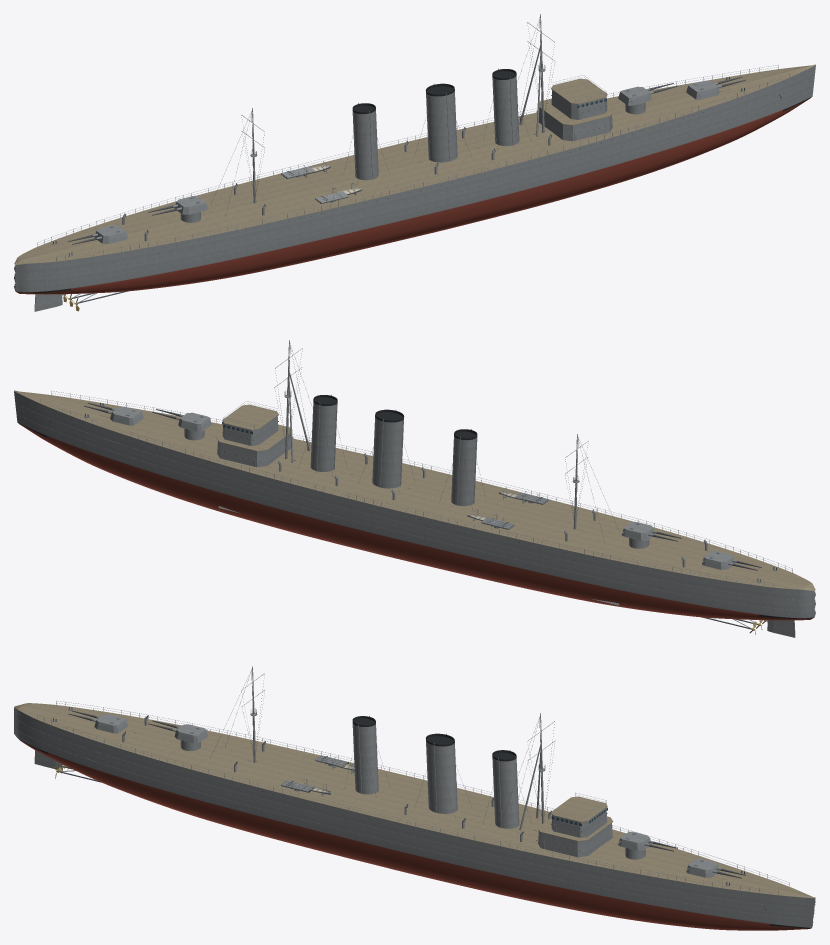
The model's file is county_ca24.glb.
3 renders of one model, top to bottom at view 1: azimuth 30°, elevation 25°; view 2: azimuth 150°, elevation 25°; view 3: azimuth 330°, elevation 25°, orthographic.
Visible parts, largest first — view 1: County class; view 2: County class; view 3: County class.
Boxes of the visible parts, <box> form: County class: <box>14,14,815,311</box>; County class: <box>14,340,815,637</box>; County class: <box>14,666,815,930</box>.
Bounding box in the file's own units: 192 × 40.4 × 20.96.
Materials: 8 (2 with a texture image).
